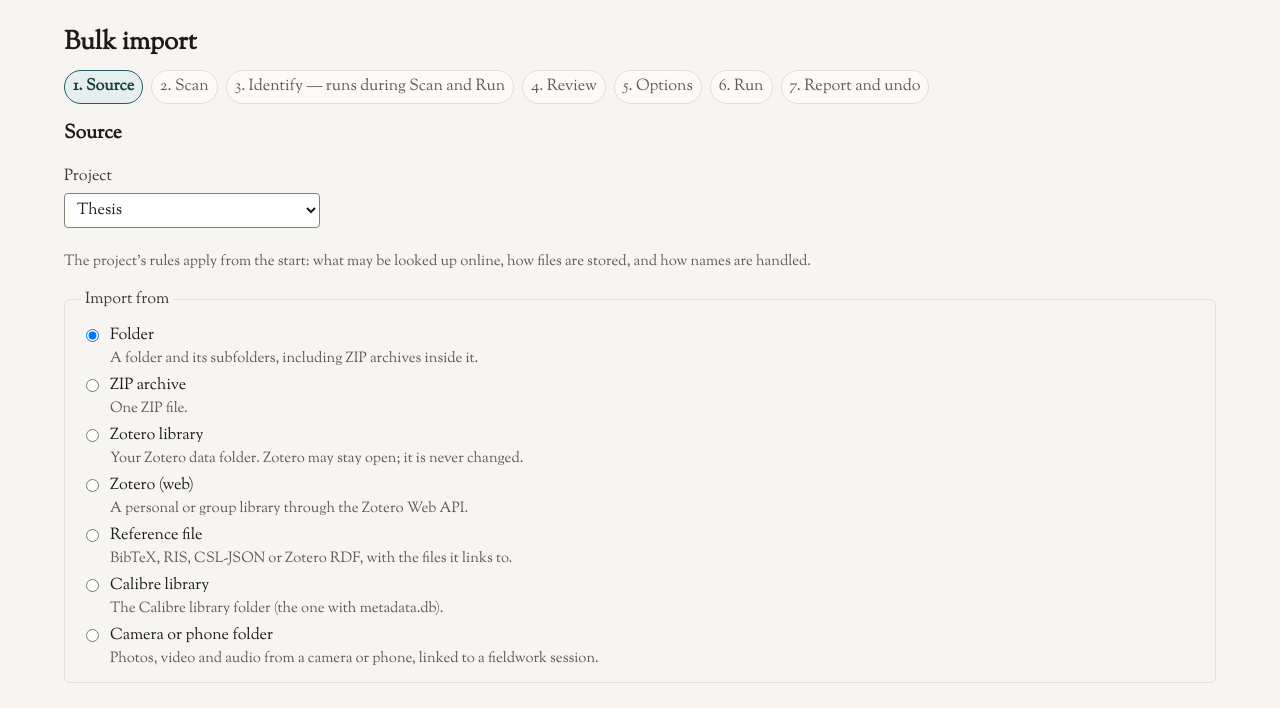
Scenario: Bulk Import wizard › renders the dry-run summary with the four counts
The image size is (1280, 708).
Click the radio button labelled "Folder" at (92, 335), box [86, 328, 99, 342]
(page scrolled)
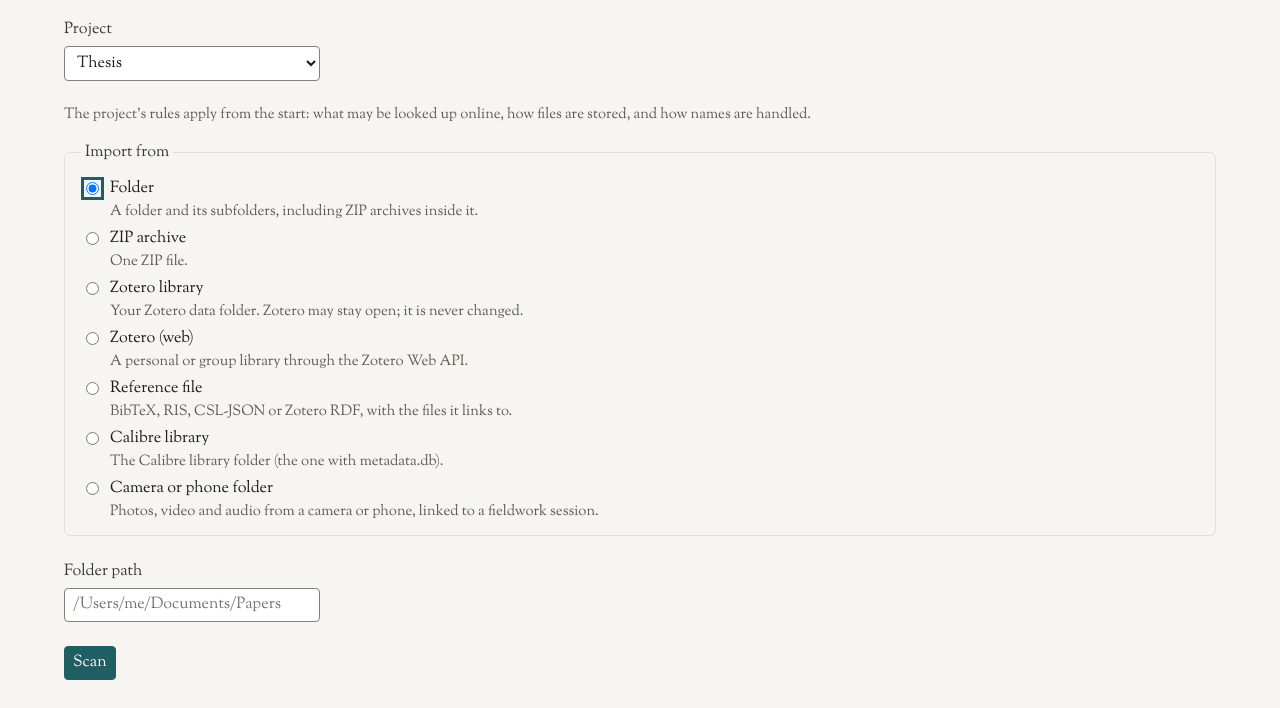
Type "/data/papers" into the field labelled "Folder path" at (192, 605), box [64, 588, 320, 622]
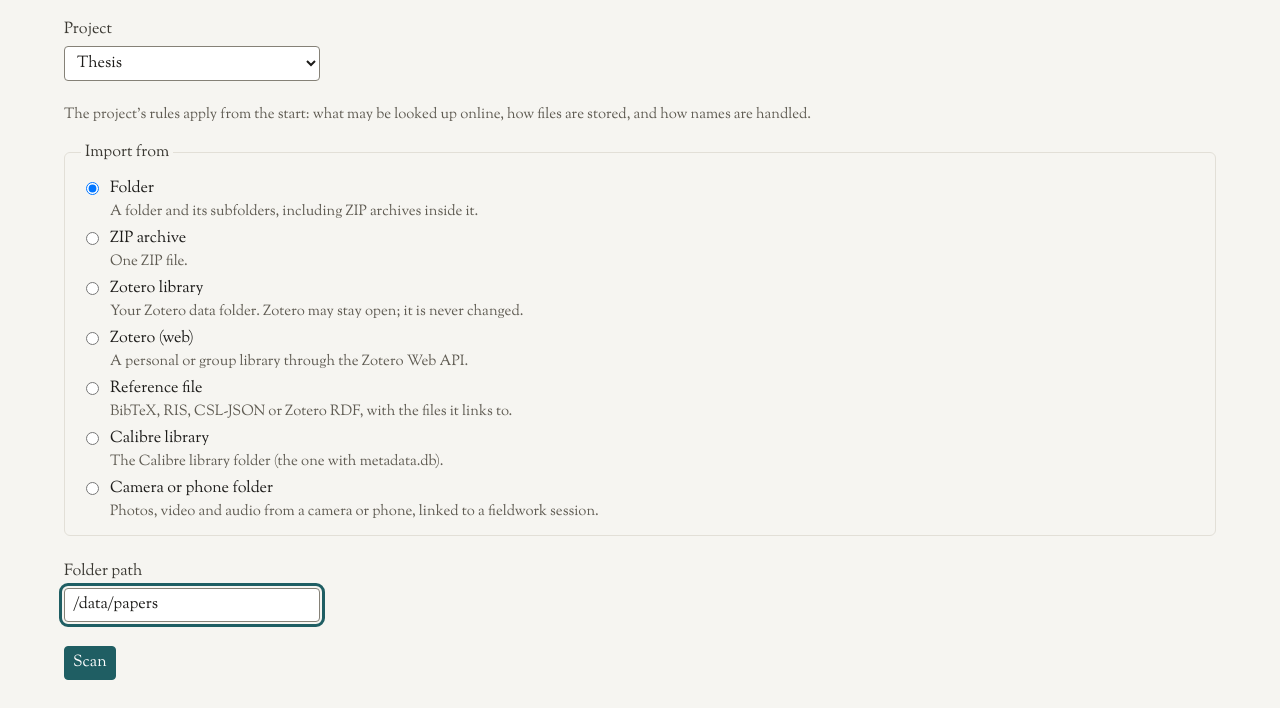
Click the button "Scan" at (90, 663), box [64, 646, 116, 680]
(page scrolled)
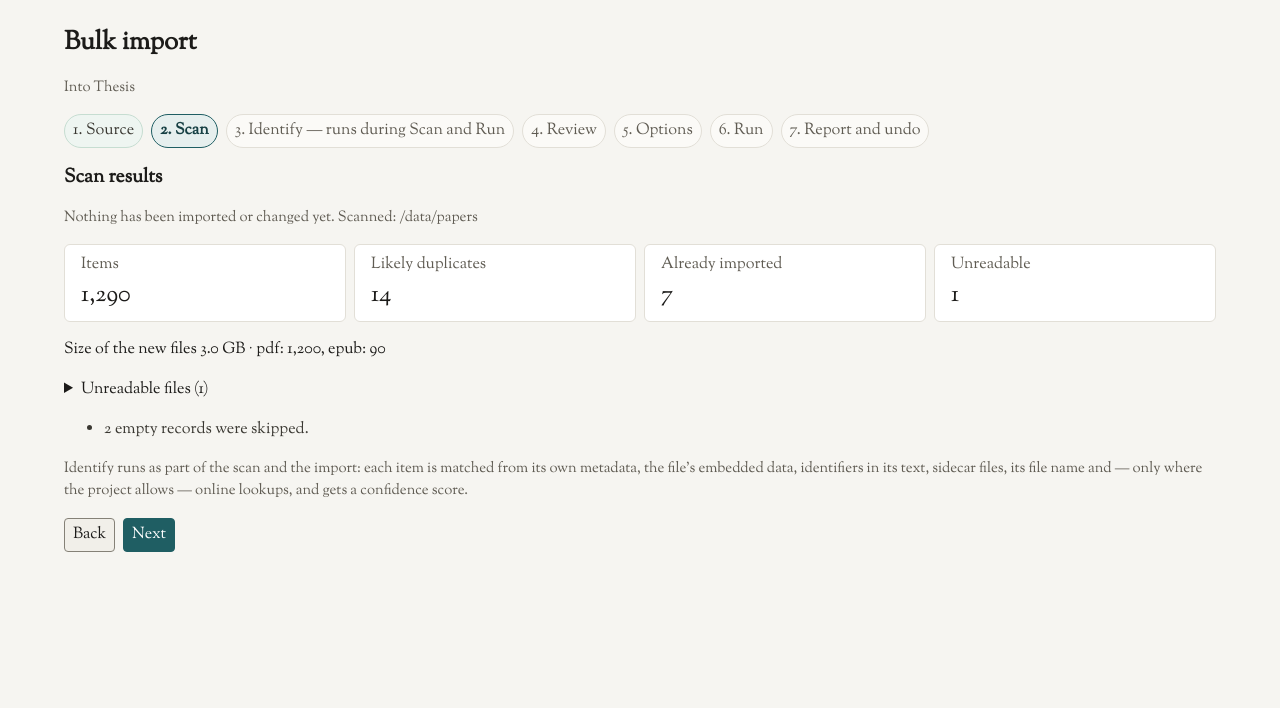
Expected: the heading "Scan results" is shown, [64, 164, 162, 191]
Expected: the text "1,290" is shown, [81, 278, 131, 312]
Expected: the text "14" is shown, [371, 278, 391, 312]
